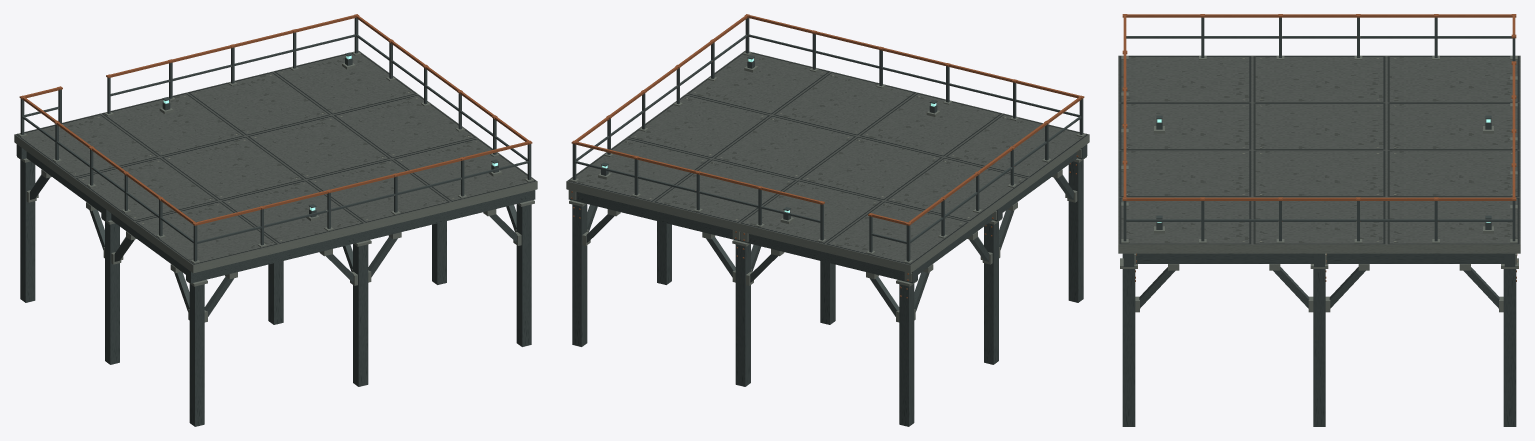
The model's file is Platform.fbx.
3 renders of one model, left to right at view 1: azimuth 30°, elevation 25°; view 2: azimuth 150°, elevation 25°; view 3: azimuth 270°, elevation 25°, orthographic. The views are drawn at different scales.
Parts seen in each view (by area): view 1: Platform; view 2: Platform; view 3: Platform.
Part boxes in pixels (x1,y1,x2,y2): Platform: (14,14,537,426); Platform: (566,14,1089,426); Platform: (1118,14,1520,426).
Size of the model in its own units: 1000 by 563 by 900.
